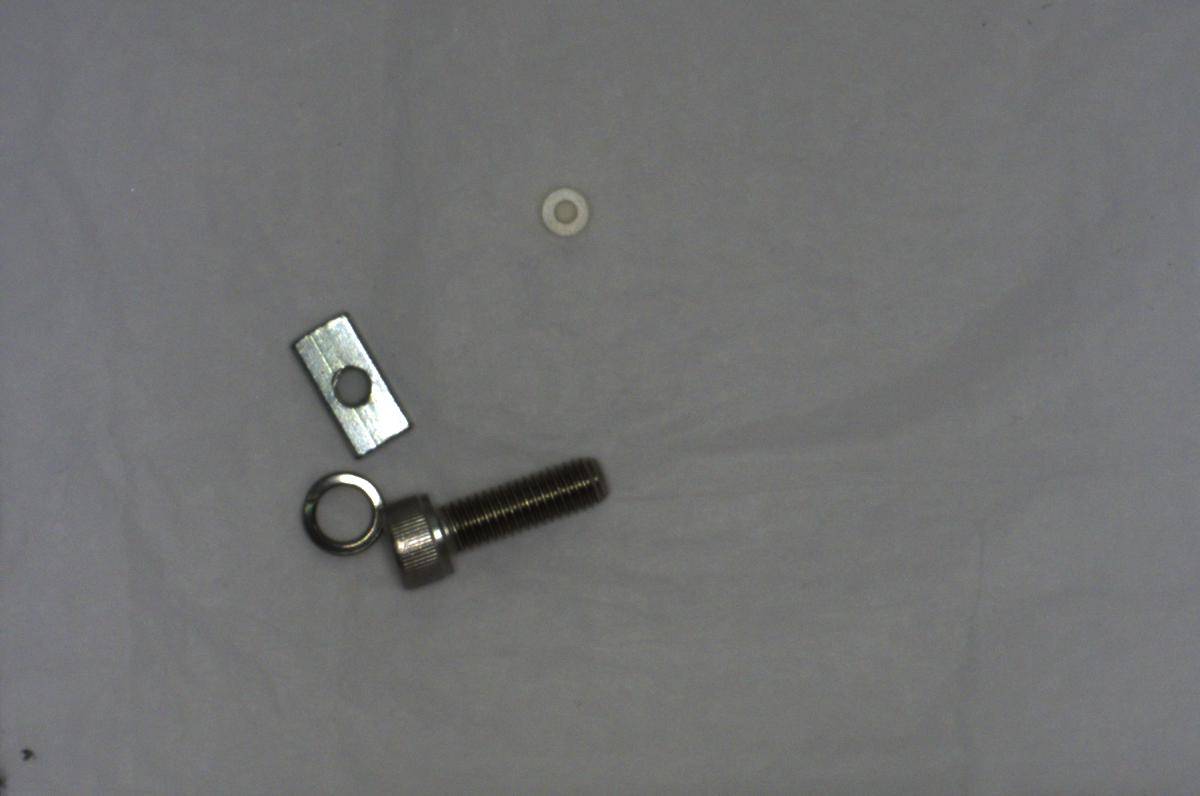Hexagon screw: (381, 453, 612, 593)
Plastic cushion pillar: (527, 182, 588, 243)
Rectangular nut: (285, 306, 413, 462)
Spring washer: (290, 466, 387, 561)
